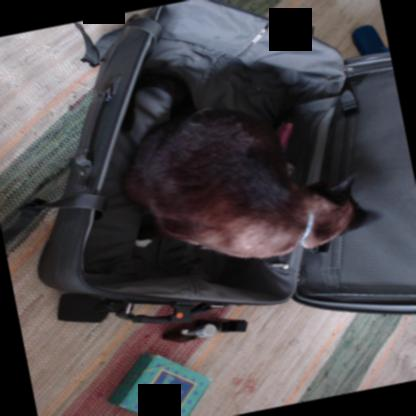suitcase: (39, 0, 416, 310)
